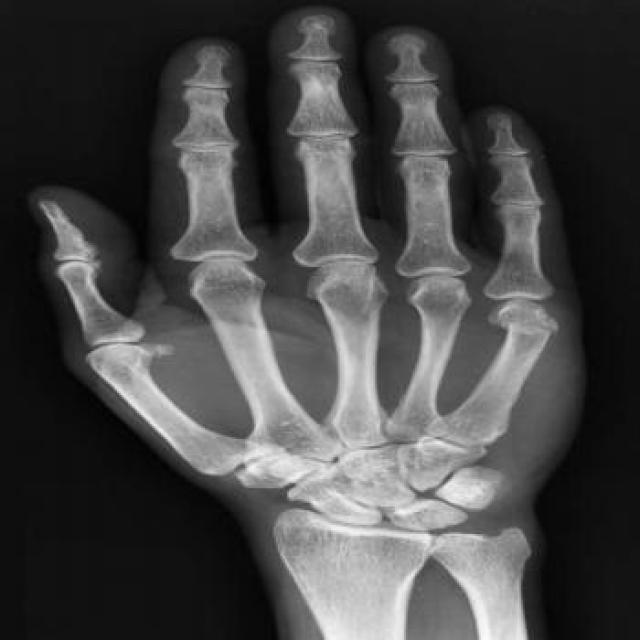fracture: (478, 316, 575, 342)
